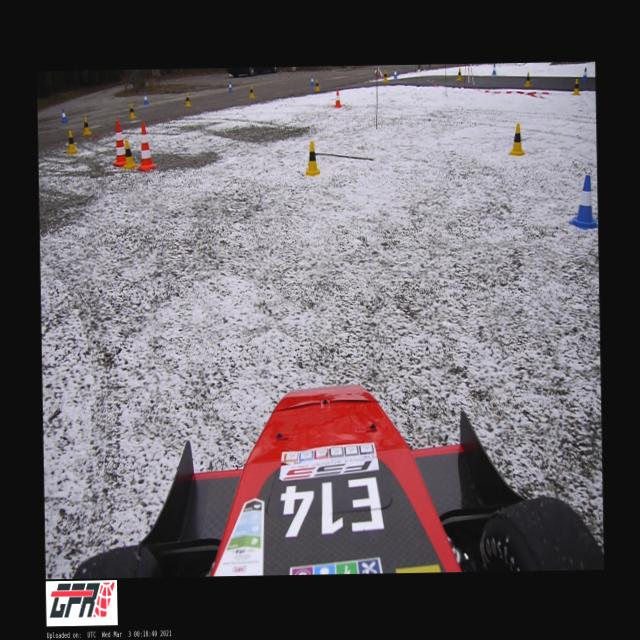blue_cone: (568, 174, 598, 230), (60, 108, 68, 124), (582, 67, 587, 82), (490, 63, 496, 75), (143, 92, 148, 105), (393, 68, 397, 79), (310, 75, 314, 86), (228, 81, 232, 92)
large_orange_cone: (136, 122, 156, 171), (112, 120, 125, 167)
orange_cone: (334, 89, 342, 108)
yellow_cone: (508, 122, 525, 156), (304, 140, 320, 176), (122, 140, 136, 168), (66, 130, 78, 154), (82, 116, 92, 134), (128, 102, 136, 120), (572, 78, 580, 95), (524, 72, 532, 87), (184, 92, 191, 107), (248, 84, 255, 98), (455, 68, 461, 82), (314, 79, 320, 91), (383, 70, 388, 82)
